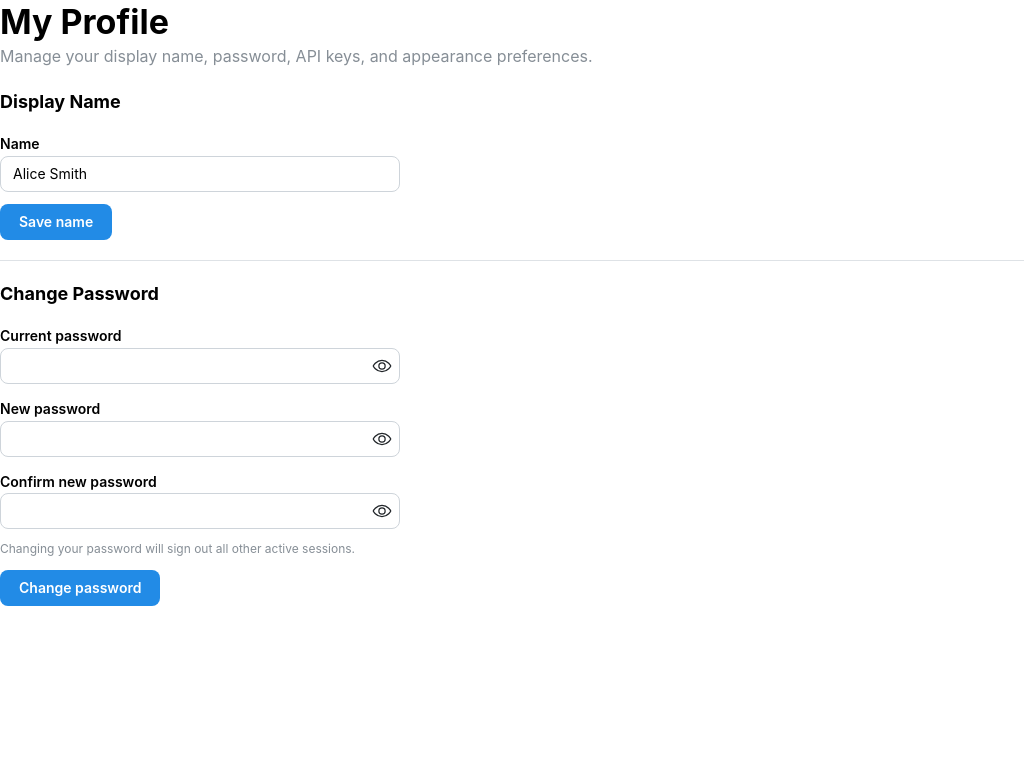
it: QOL-001 — Password strength meter › strength label updates from Weak to Strong as the user builds a stronger password
The width and height of the screenshot is (1024, 768).
Note: Type a short, weak password
Step 1. Type "abc" into the password field with test id "new-password-input" → x=200, y=439, box [1,422,399,456]
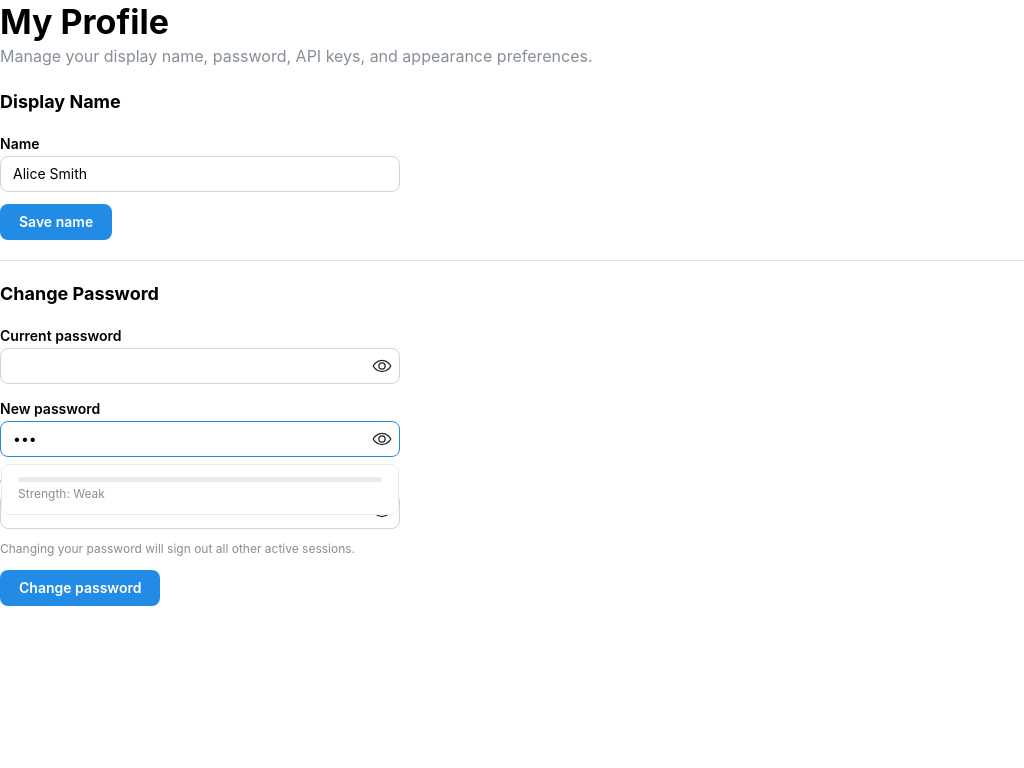
Check: the text "Strength: Weak" is shown, box [18,486,105,501]
Note: Extend to a strong password: 12+ chars, uppercase, digit, special char
Step 2. Type "DEFGH1!@#0123" into the password field with test id "new-password-input" → x=200, y=439, box [1,422,399,456]
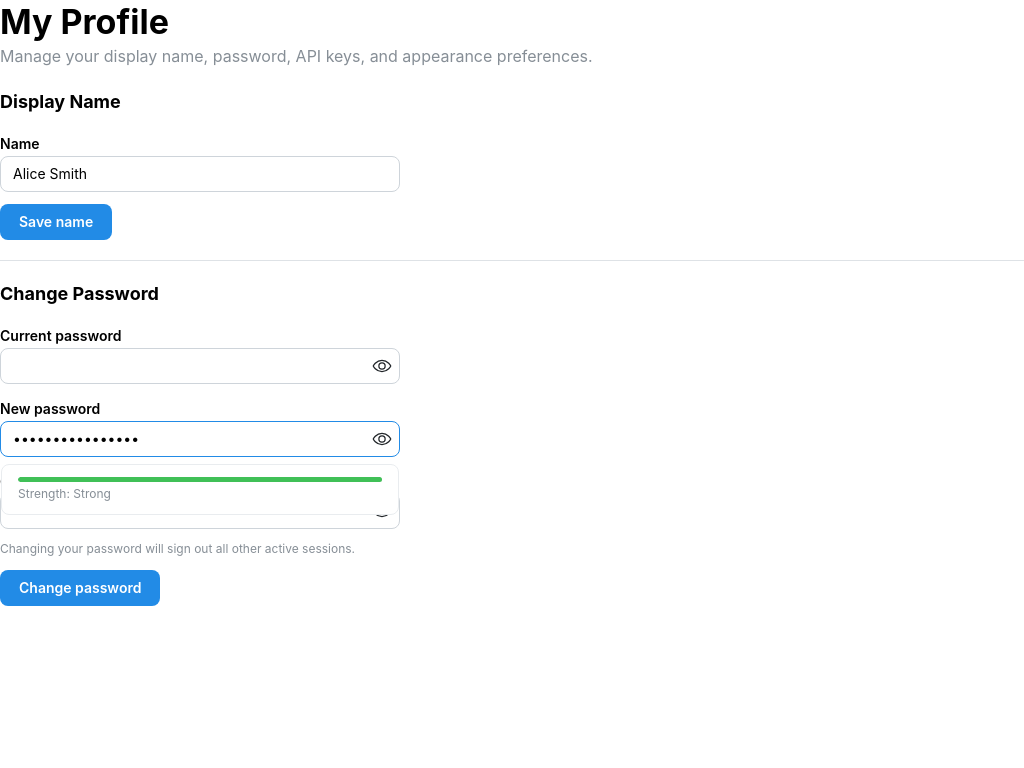
Check: the text "Strength: Strong" is shown, box [18,486,111,501]
